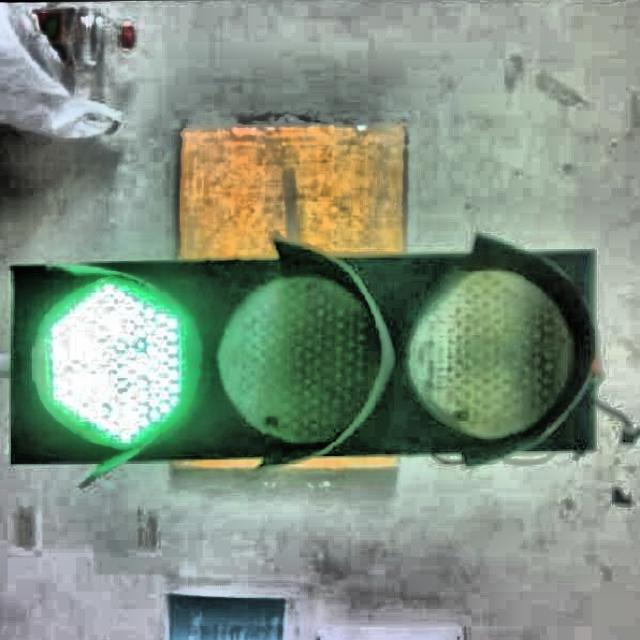green: (9, 238, 601, 481)
